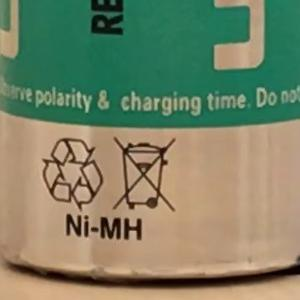NI-MH: (56, 208, 152, 247)
